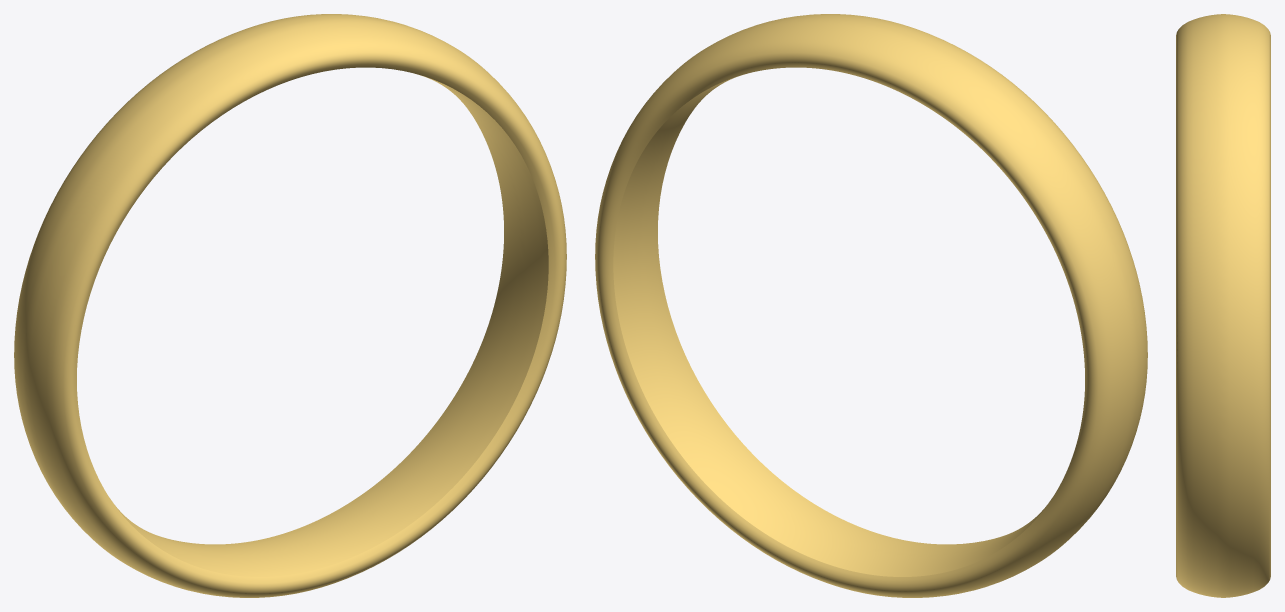
The model's file is v2GideonYG.glb.
3 views of the same model, side by side, from view 1: azimuth 30°, elevation 25°; view 2: azimuth 150°, elevation 25°; view 3: azimuth 270°, elevation 25° (orthographic). The views are drawn at different scales.
Parts seen in each view (by area): view 1: v2 Gideon YG; view 2: v2 Gideon YG; view 3: v2 Gideon YG.
Part boxes in pixels (bbox=[...]): v2 Gideon YG: bbox=[14, 14, 566, 597]; v2 Gideon YG: bbox=[595, 14, 1147, 597]; v2 Gideon YG: bbox=[1176, 14, 1270, 597].
Size of the model in its own units: 22.08 by 22.21 by 3.6.
